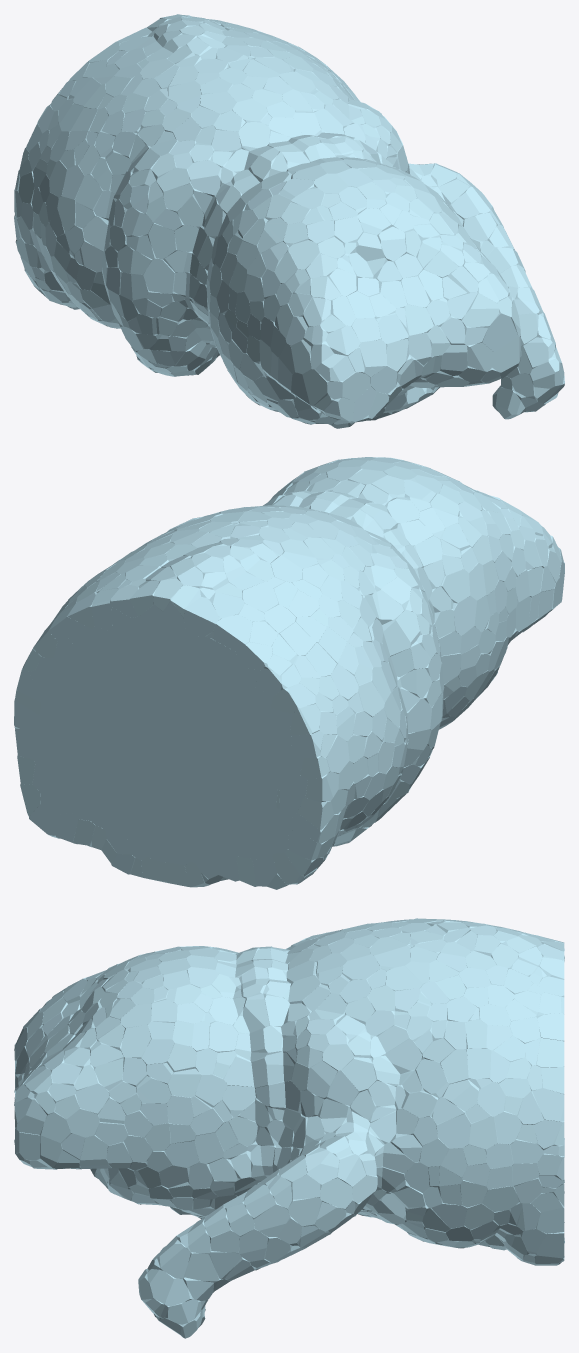
File: mesh_cat_voromesh.glb
3 renders of one model, top to bottom at view 1: azimuth 30°, elevation 25°; view 2: azimuth 150°, elevation 25°; view 3: azimuth 270°, elevation 25°, orthographic. The views are drawn at different scales.
Visible parts, largest first — view 1: 313444_voromesh; view 2: 313444_voromesh; view 3: 313444_voromesh.
Part boxes in pixels (box(x1,y1,x2,y2)): 313444_voromesh: box(14, 14, 564, 428); 313444_voromesh: box(14, 457, 564, 889); 313444_voromesh: box(14, 918, 564, 1338).
Size of the model in its own units: 1.37 by 1.14 by 1.81.
